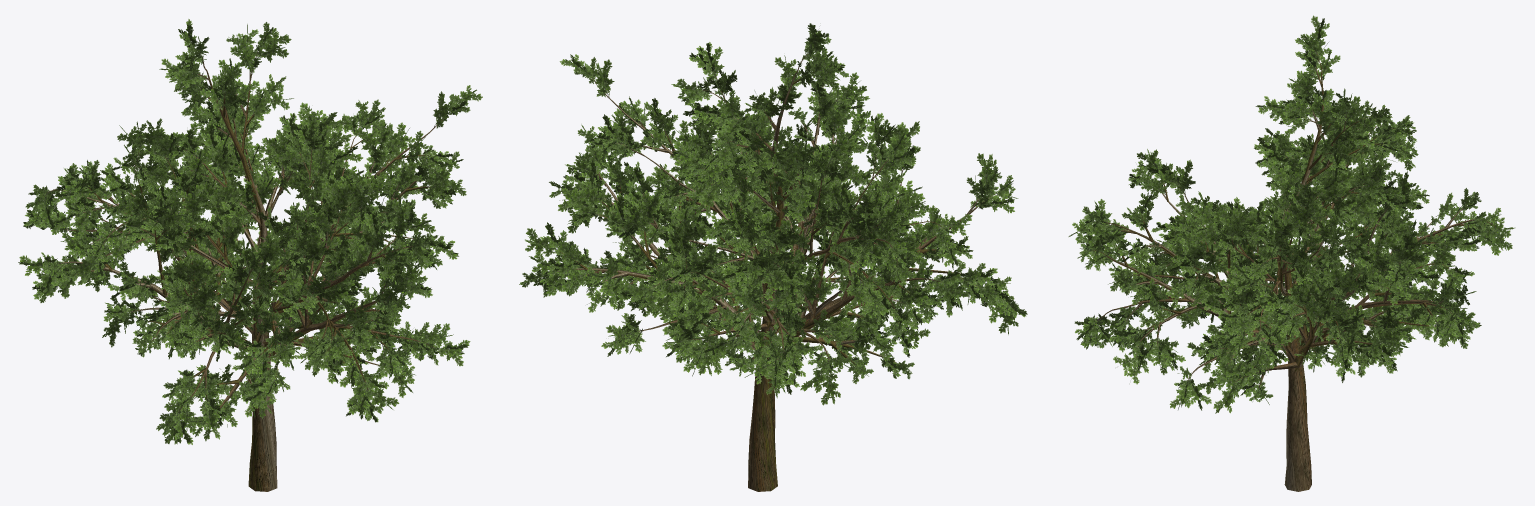
The model's file is tree_oak.glb.
3 views of the same model, side by side, from view 1: azimuth 30°, elevation 25°; view 2: azimuth 150°, elevation 25°; view 3: azimuth 270°, elevation 25° (orthographic). The views are drawn at different scales.
Visible parts, largest first — view 1: Tree; view 2: Tree; view 3: Tree.
Boxes of the visible parts, x1,y1,x2,y2 form: Tree: (18,19,482,491); Tree: (519,23,1027,491); Tree: (1068,15,1515,491).
Size of the model in its own units: 11.97 by 12.58 by 11.79.
2 materials, 2 textured.
